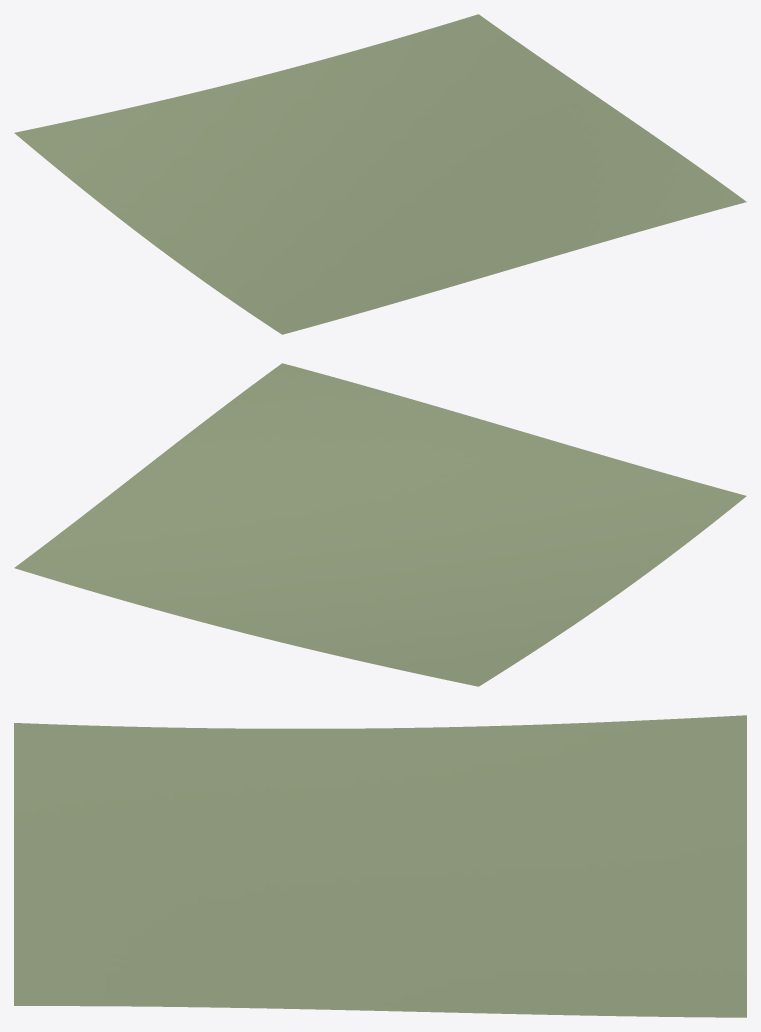
File: alpine-0-12.glb
3 renders of one model, top to bottom at view 1: azimuth 30°, elevation 25°; view 2: azimuth 150°, elevation 25°; view 3: azimuth 270°, elevation 25°, orthographic. The views are drawn at different scales.
Parts seen in each view (by area): view 1: alpine-0-12; view 2: alpine-0-12; view 3: alpine-0-12.
Boxes of the visible parts, x1,y1,x2,y2 form: alpine-0-12: (14,14,746,334); alpine-0-12: (14,363,746,686); alpine-0-12: (14,715,746,1017).
Bounding box in the file's own units: 256 × 12.53 × 256.
